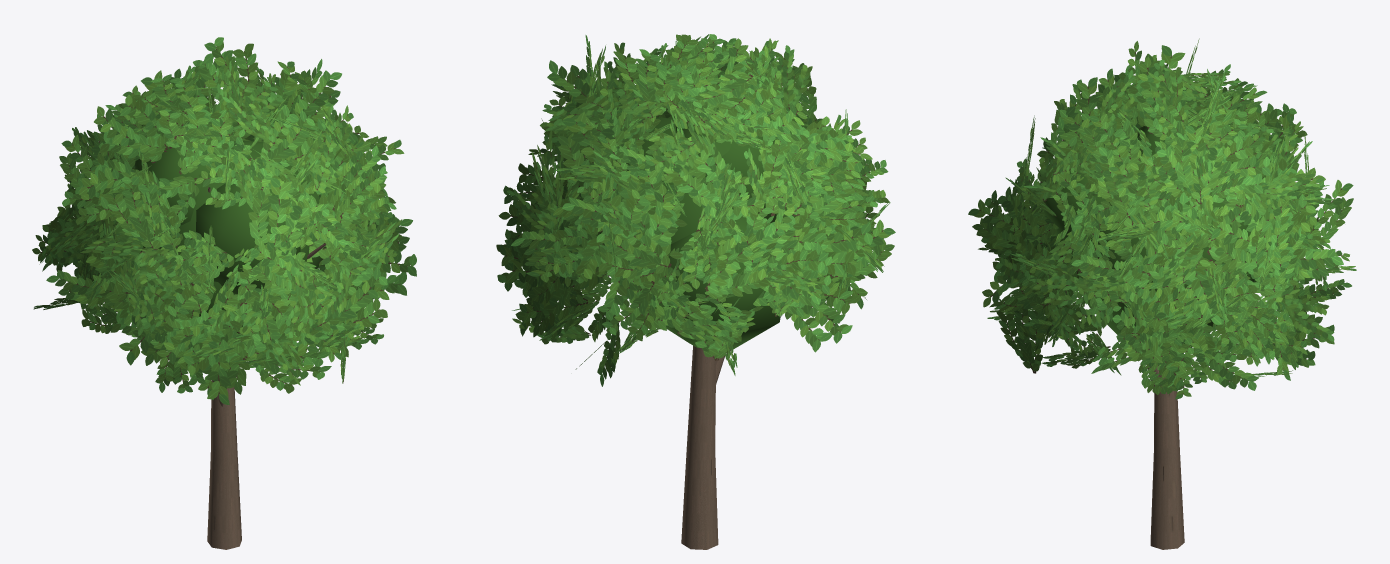
File: TILIA_1.glb
The picture shows the model from 3 angles, left to right: view 1: azimuth 30°, elevation 25°; view 2: azimuth 150°, elevation 25°; view 3: azimuth 270°, elevation 25°; orthographic projection. The views are drawn at different scales.
Parts seen in each view (by area): view 1: Arv_TILIA_lod1; view 2: Arv_TILIA_lod1; view 3: Arv_TILIA_lod1.
Part boxes in pixels (x1,y1,x2,y2): Arv_TILIA_lod1: (32,37,416,549); Arv_TILIA_lod1: (496,34,895,549); Arv_TILIA_lod1: (968,38,1356,549).
Bounding box in the file's own units: 8.48 × 10.83 × 8.38.
Materials: 3 (2 with a texture image).
